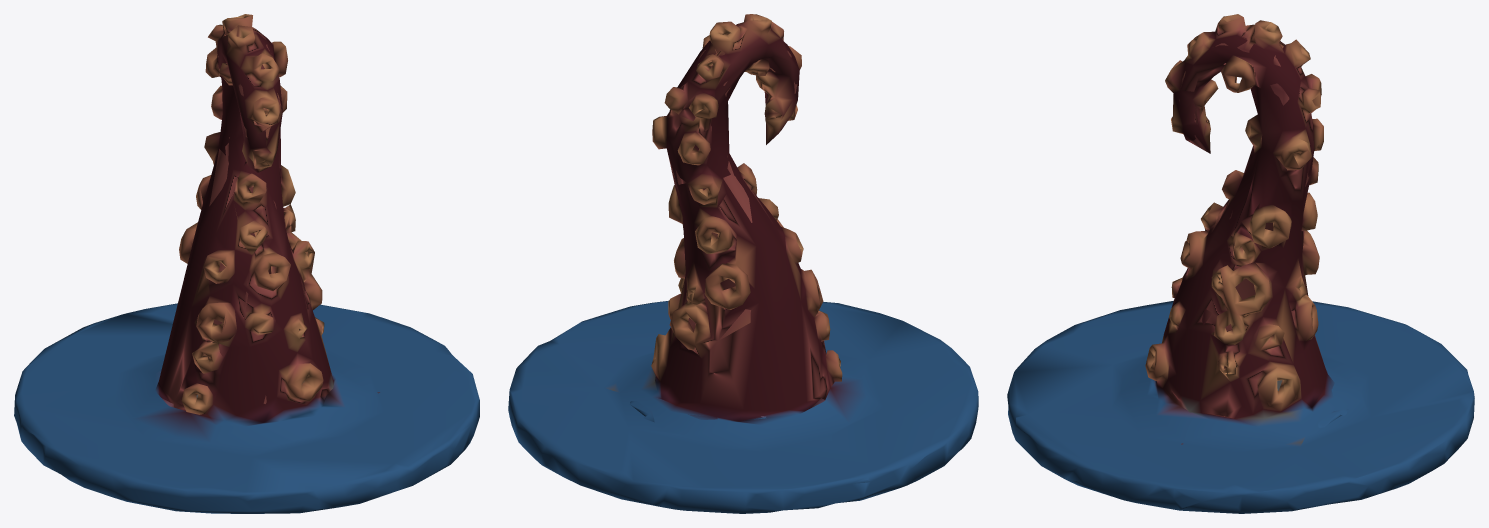
The model's file is gen3d-kraken-tentacle-lod0.glb.
3 views of the same model, side by side, from view 1: azimuth 30°, elevation 25°; view 2: azimuth 150°, elevation 25°; view 3: azimuth 270°, elevation 25° (orthographic).
Visible parts, largest first — view 1: part_0; view 2: part_0; view 3: part_0.
Boxes of the visible parts, left/top/right/bottom form: part_0: left=14, top=14, right=479, bottom=513; part_0: left=508, top=14, right=978, bottom=513; part_0: left=1007, top=14, right=1474, bottom=513.
Bounding box in the file's own units: 1.07 × 0.9999 × 1.07.
